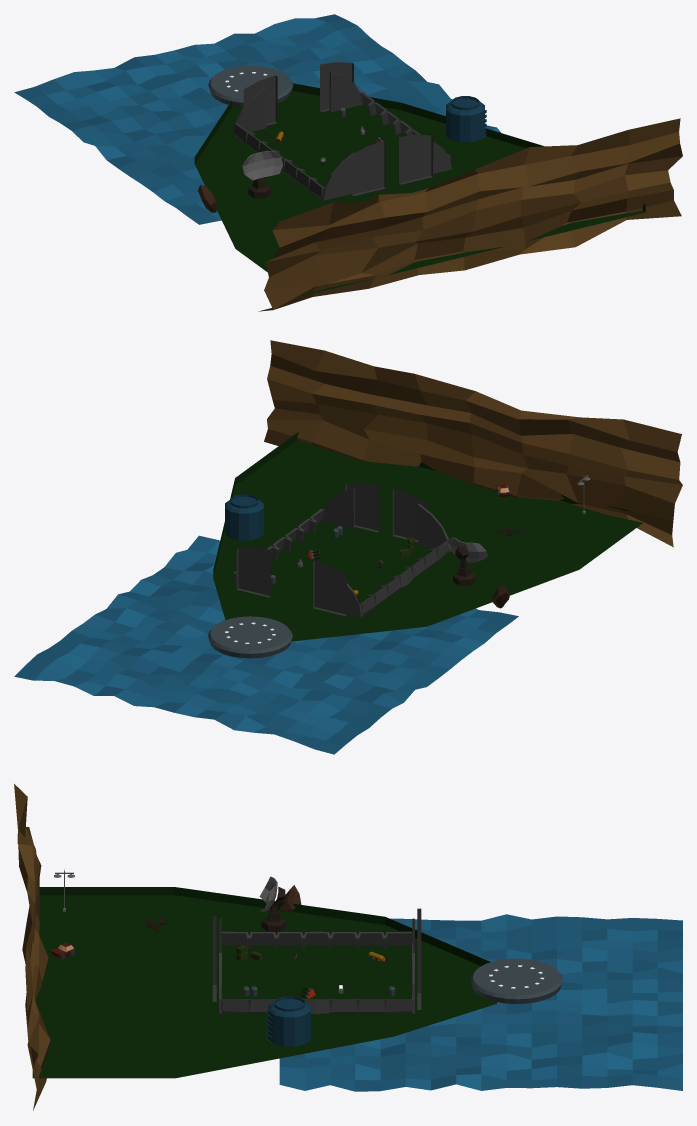
Rendered from Level 2.glb.
The picture shows the model from 3 angles, top to bottom: view 1: azimuth 30°, elevation 25°; view 2: azimuth 150°, elevation 25°; view 3: azimuth 270°, elevation 25°; orthographic projection. The views are drawn at different scales.
Parts seen in each view (by area): view 1: Plane.001, Plane.002, Plane, Cylinder.004, Cylinder.003, Cylinder.002, Cylinder.011, Cube.009; view 2: Plane.002, Plane, Plane.001, Cylinder.003, Cylinder.004, Cylinder.002, Cylinder.011, Cube.009; view 3: Plane, Plane.002, Cylinder.004, Plane.001, Cylinder.002, Cylinder.011, Cylinder.003, Cube.009.
Boxes of the visible parts, x1,y1,x2,y2 form: Plane.001: (258,118,682,311); Plane.002: (14,14,500,224); Plane: (194,83,645,296); Cylinder.004: (233,71,451,200); Cylinder.003: (243,62,433,195); Cylinder.002: (208,65,293,107); Cylinder.011: (446,96,486,142); Cube.009: (242,150,282,181); Plane.002: (14,535,518,754); Plane: (213,431,643,641); Plane.001: (264,340,682,547); Cylinder.003: (236,482,426,615); Cylinder.004: (233,488,451,617); Cylinder.002: (208,616,292,658); Cylinder.011: (225,494,263,540); Cube.009: (447,537,487,568); Plane: (32,887,496,1078); Plane.002: (279,914,682,1091); Cylinder.004: (219,918,414,1014); Plane.001: (14,784,50,1110); Cylinder.002: (470,958,562,1003); Cylinder.011: (266,996,310,1046); Cylinder.003: (212,908,421,1009); Cube.009: (259,876,285,913).
Bounding box in the file's own units: 180 × 45.8 × 229.
2 materials, 1 textured.
